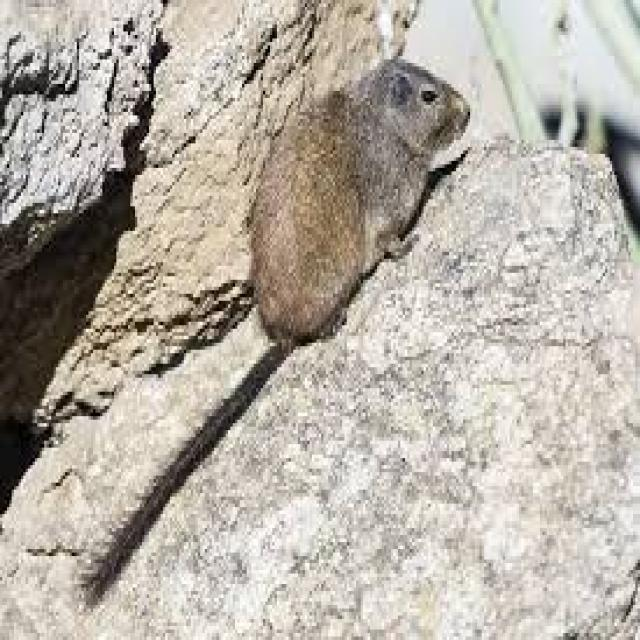rat: (244, 52, 470, 346)
